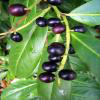Cherry leaf: (4, 16, 47, 78), (70, 30, 100, 86), (0, 80, 42, 99), (68, 2, 99, 24)
